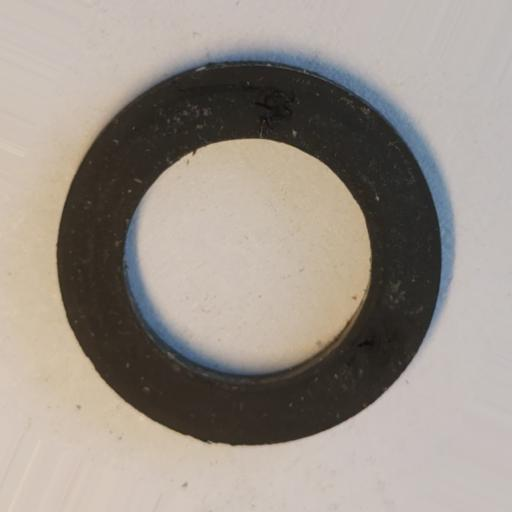defect: (244, 80, 300, 126), (356, 331, 398, 364)
